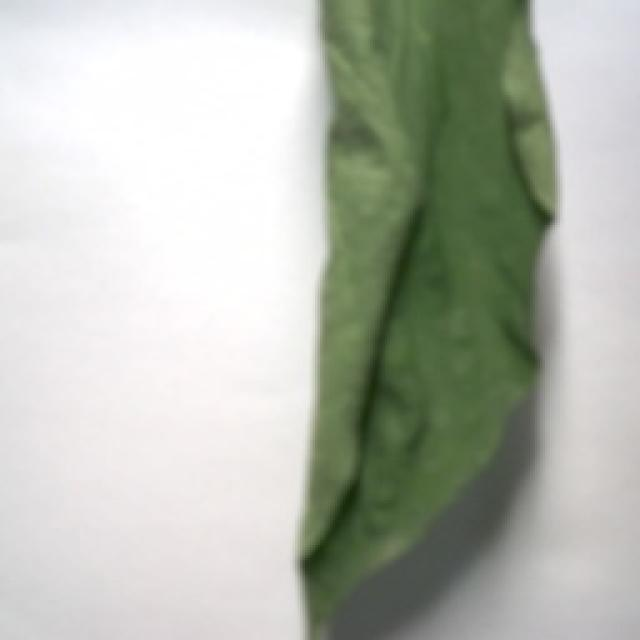Leaf: (294, 6, 568, 640)
